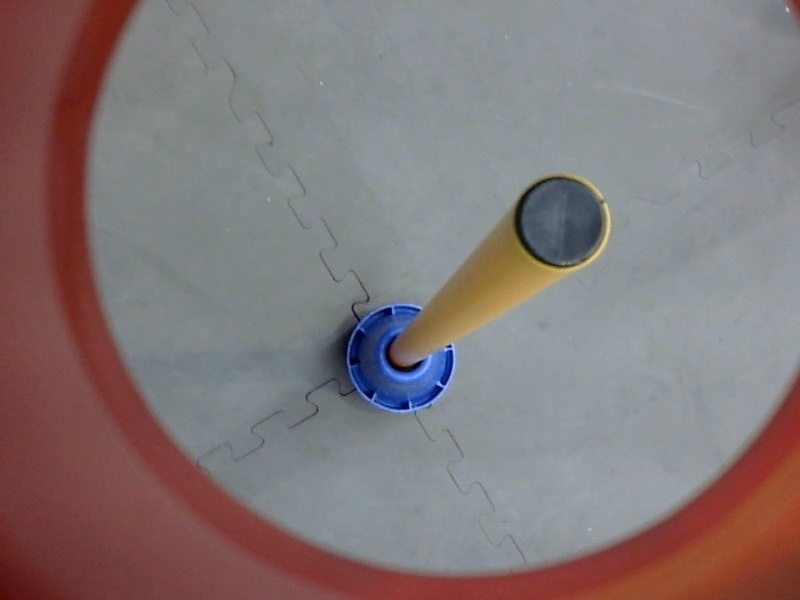tip: (509, 168, 614, 279)
